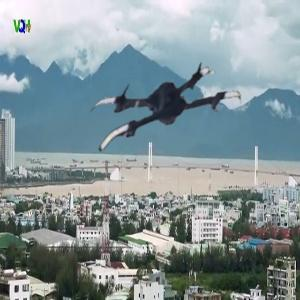drone: (93, 46, 242, 195)
